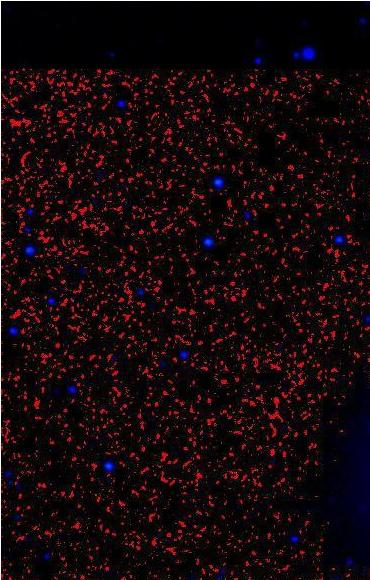star: (97, 457, 127, 487)
